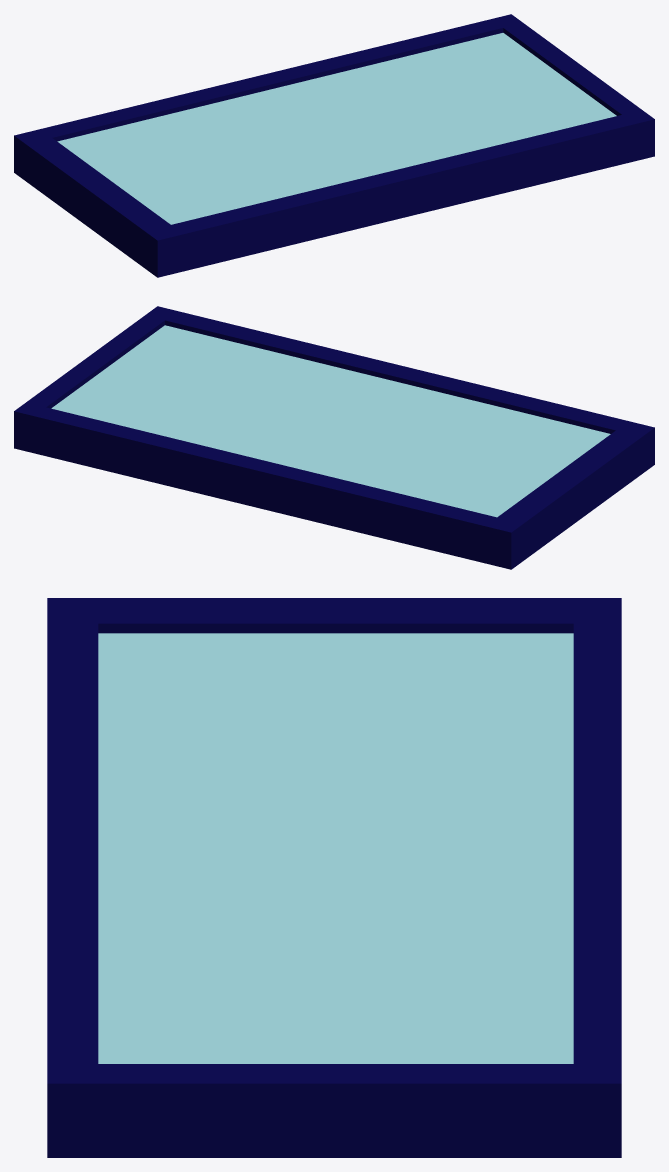
The model's file is uPhone_BoomHaunted.fbx.
3 views of the same model, one above another, from view 1: azimuth 30°, elevation 25°; view 2: azimuth 150°, elevation 25°; view 3: azimuth 270°, elevation 25° (orthographic). The views are drawn at different scales.
Visible parts, largest first — view 1: screen open, phone base; view 2: screen open, phone base; view 3: screen open, phone base.
Part boxes in pixels (bbox=[...]): screen open: bbox=[57, 33, 616, 224]; phone base: bbox=[14, 14, 654, 277]; screen open: bbox=[51, 325, 610, 517]; phone base: bbox=[14, 306, 654, 569]; screen open: bbox=[98, 633, 573, 1063]; phone base: bbox=[47, 598, 621, 1157].
Size of the model in its own units: 17.78 by 1.27 by 8.89.
